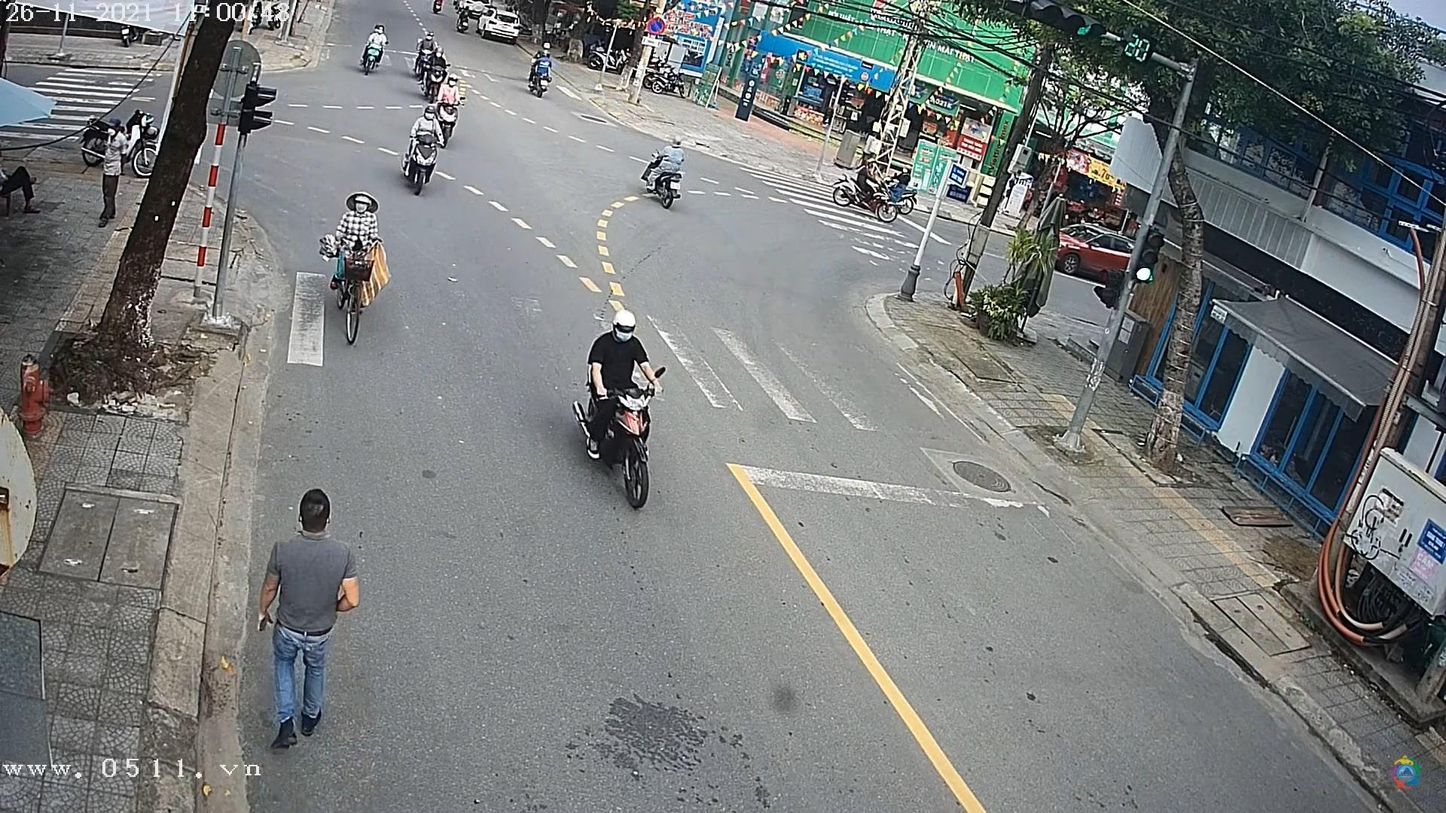car: (1056, 223, 1142, 285)
motorbike: (575, 367, 662, 512), (833, 174, 903, 228), (404, 126, 440, 199), (649, 169, 684, 206), (358, 36, 388, 74)
